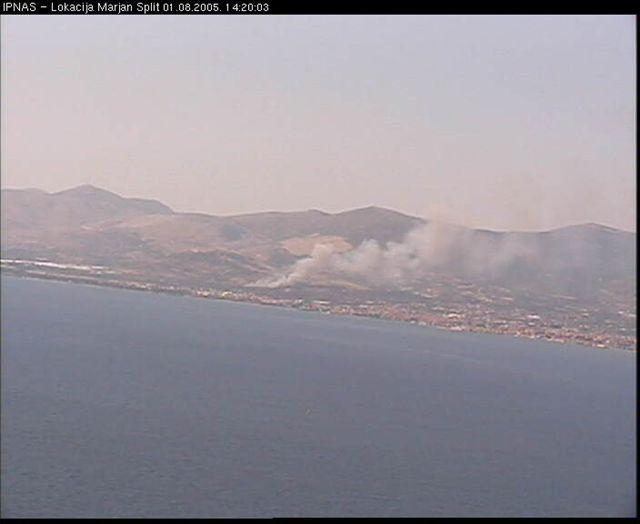Smoke: (252, 226, 553, 313)
